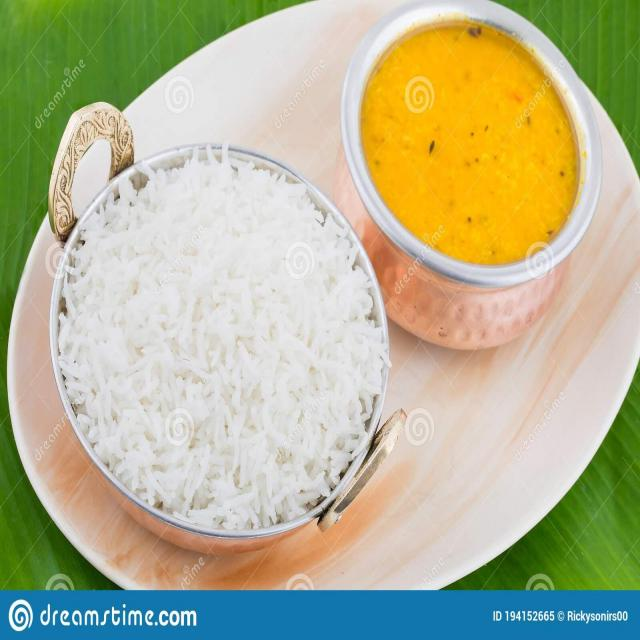dal: (366, 27, 579, 263)
rice: (64, 162, 385, 529)
